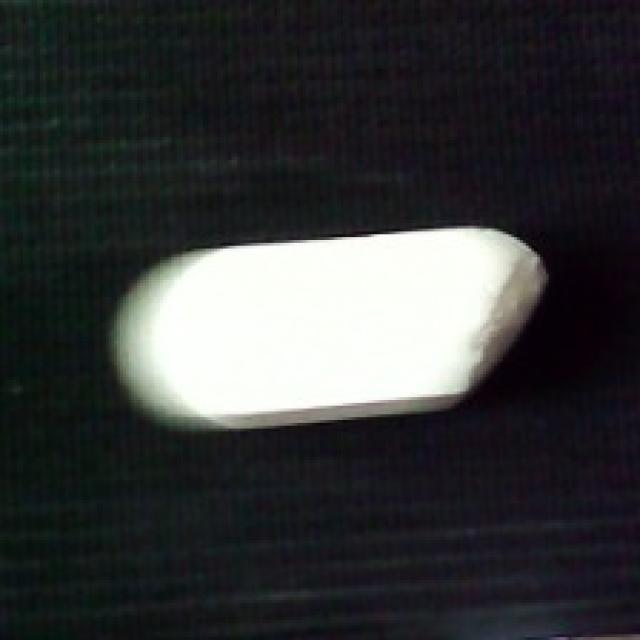defected: (106, 223, 557, 431)
